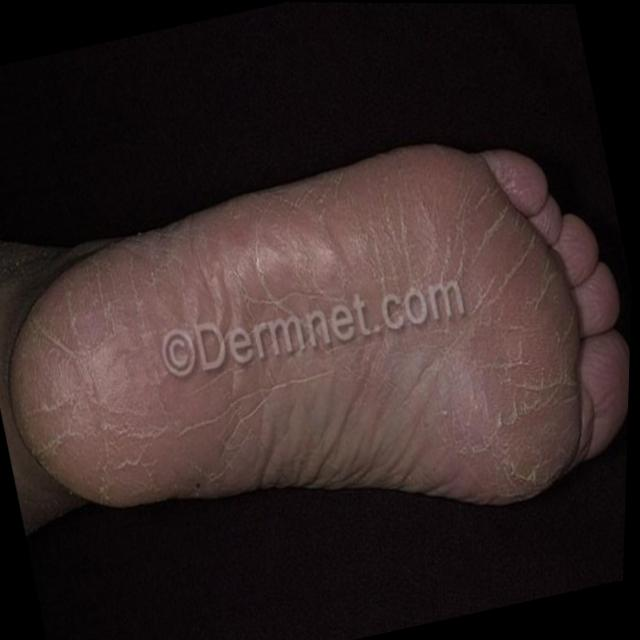liquenificacion 1: (12, 163, 582, 491)
